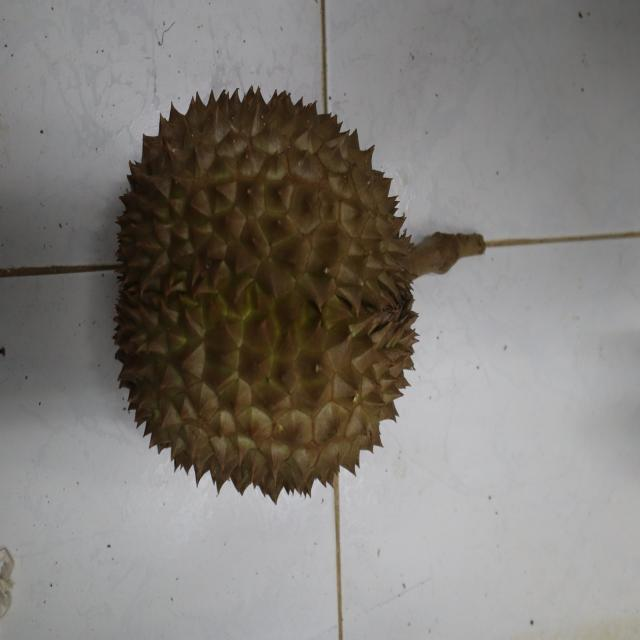mature: (109, 88, 421, 503)
